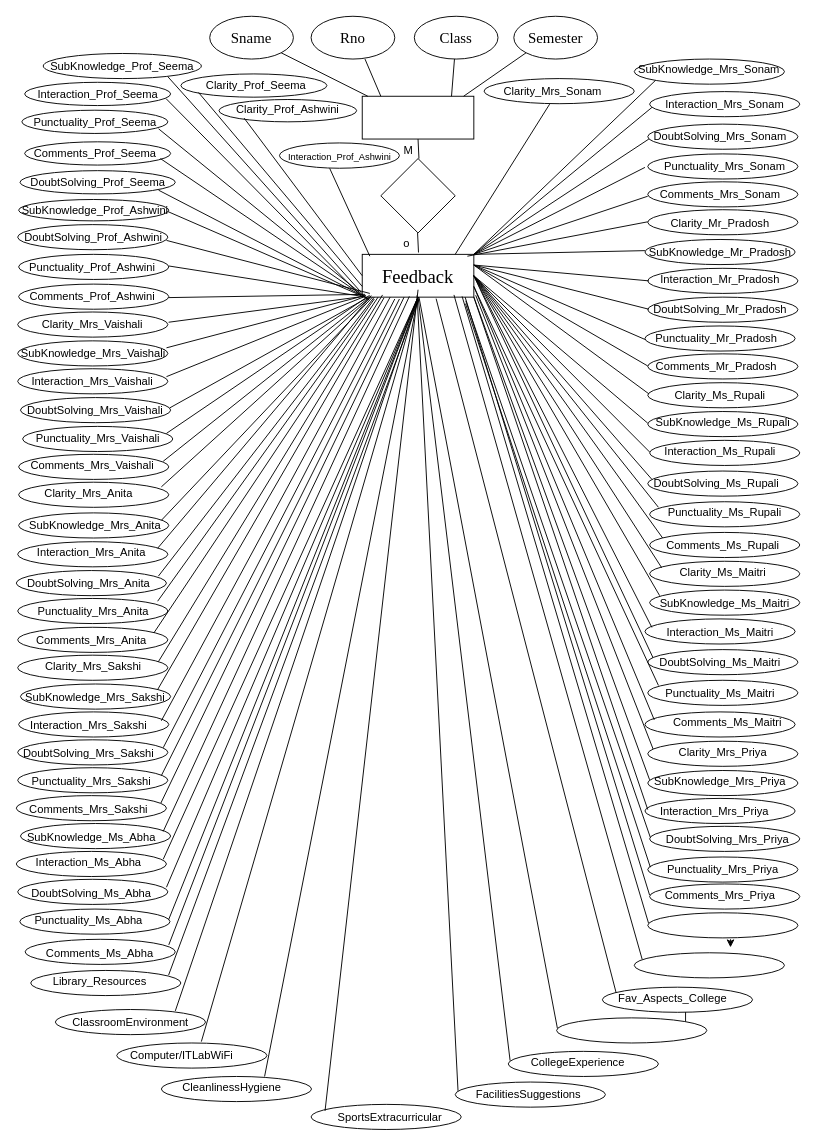
This 817x1147 diagram has some shape labels left out. The box of each missing label's shape, as (x1, y1, x2, y2) in pixels:
Clarity_Ms_Abha: (647, 912, 798, 938)
CollegeRecommendation: (556, 1017, 707, 1043)
Student: (361, 95, 474, 139)
Submits: (380, 158, 455, 233)
Suggestions: (633, 952, 784, 978)
